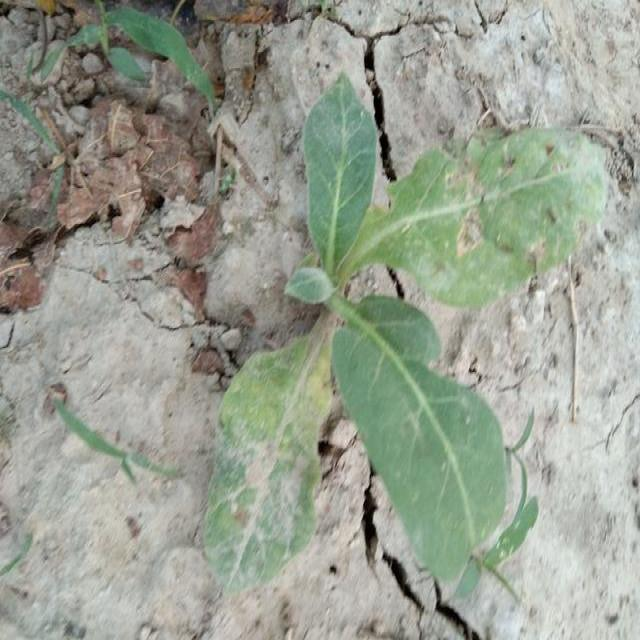crop: (203, 100, 602, 601)
